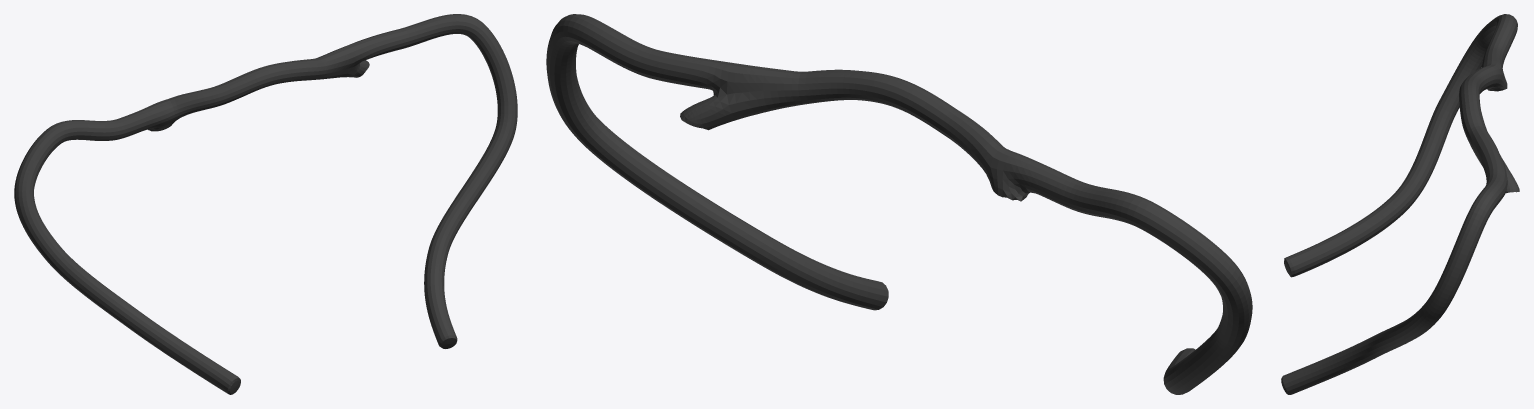
3 views of the same model, side by side, from view 1: azimuth 30°, elevation 25°; view 2: azimuth 150°, elevation 25°; view 3: azimuth 270°, elevation 25° (orthographic). The views are drawn at different scales.
Visible parts, largest first — view 1: CN4_low_CN4_low; view 2: CN4_low_CN4_low; view 3: CN4_low_CN4_low.
Boxes of the visible parts, x1,y1,x2,y2 form: CN4_low_CN4_low: (14, 14, 517, 394); CN4_low_CN4_low: (546, 14, 1252, 394); CN4_low_CN4_low: (1281, 14, 1519, 394).
Size of the model in its own units: 27.19 by 13.02 by 10.99.
1 material, 1 textured.
